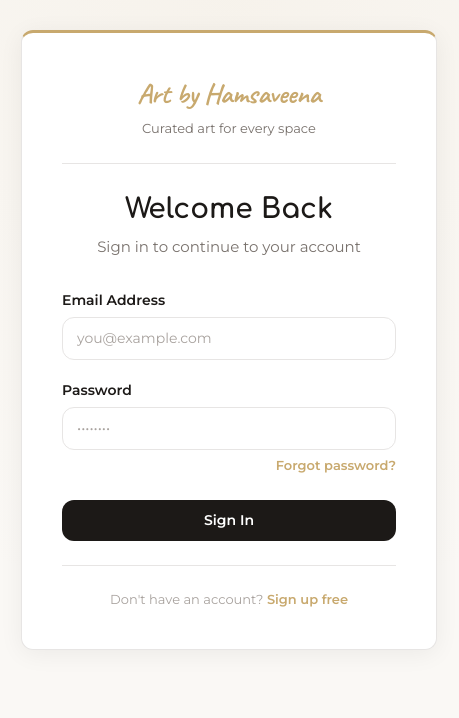
Scenario: LoginForm › shows email validation error when empty
Click the button "Sign In" at (229,520), box [62,500,396,540]
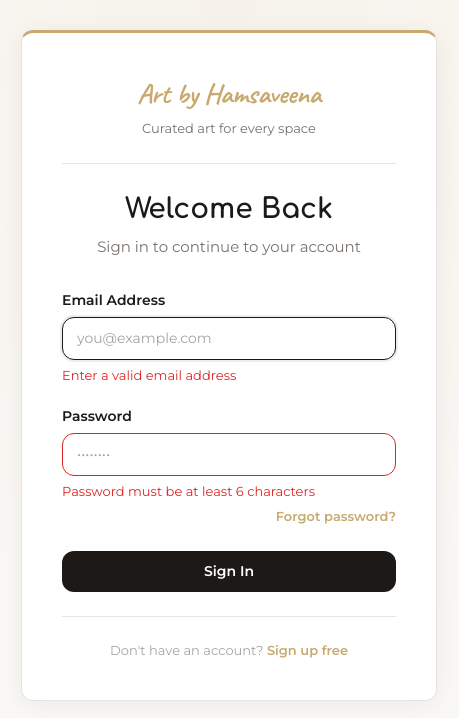
expect the text "Enter a valid email address" is shown: met, box [62,367,236,383]
